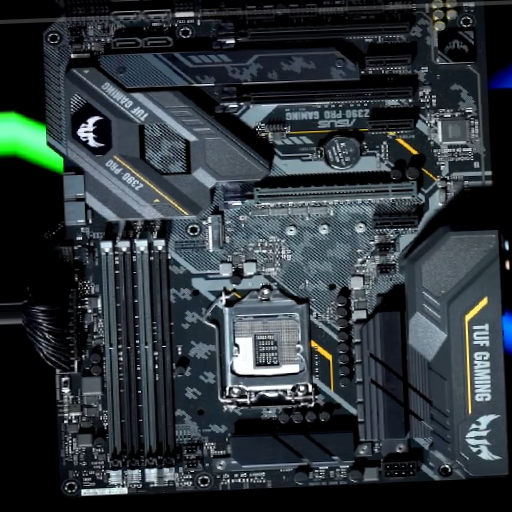CPU: (217, 285, 310, 409)
GPU: (224, 179, 419, 211), (215, 85, 414, 114), (210, 20, 410, 48)
MOTHERBOARD: (63, 7, 484, 498)
RAM: (98, 238, 179, 470)
SSD: (206, 213, 224, 253)
